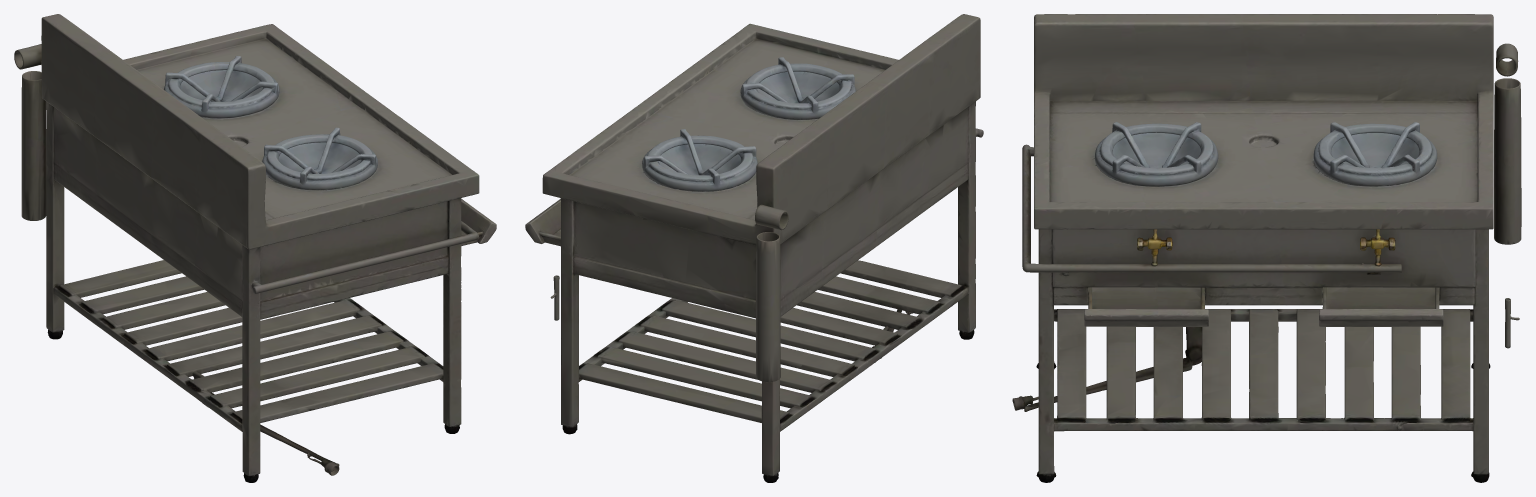
The model's file is range.glb.
The picture shows the model from 3 angles, left to right: view 1: azimuth 30°, elevation 25°; view 2: azimuth 150°, elevation 25°; view 3: azimuth 270°, elevation 25°; orthographic projection. The views are drawn at different scales.
Parts seen in each view (by area): view 1: tripo_node_67c07428-4dbb-4303-adeb-9e2e5f27158d; view 2: tripo_node_67c07428-4dbb-4303-adeb-9e2e5f27158d; view 3: tripo_node_67c07428-4dbb-4303-adeb-9e2e5f27158d.
Boxes of the visible parts, bbox=[...] form: tripo_node_67c07428-4dbb-4303-adeb-9e2e5f27158d: bbox=[14, 14, 496, 482]; tripo_node_67c07428-4dbb-4303-adeb-9e2e5f27158d: bbox=[525, 14, 983, 482]; tripo_node_67c07428-4dbb-4303-adeb-9e2e5f27158d: bbox=[1012, 14, 1521, 482].
Bounding box in the file's own units: 0.7248 × 0.7691 × 1.
Materials: 1 (1 with a texture image).
